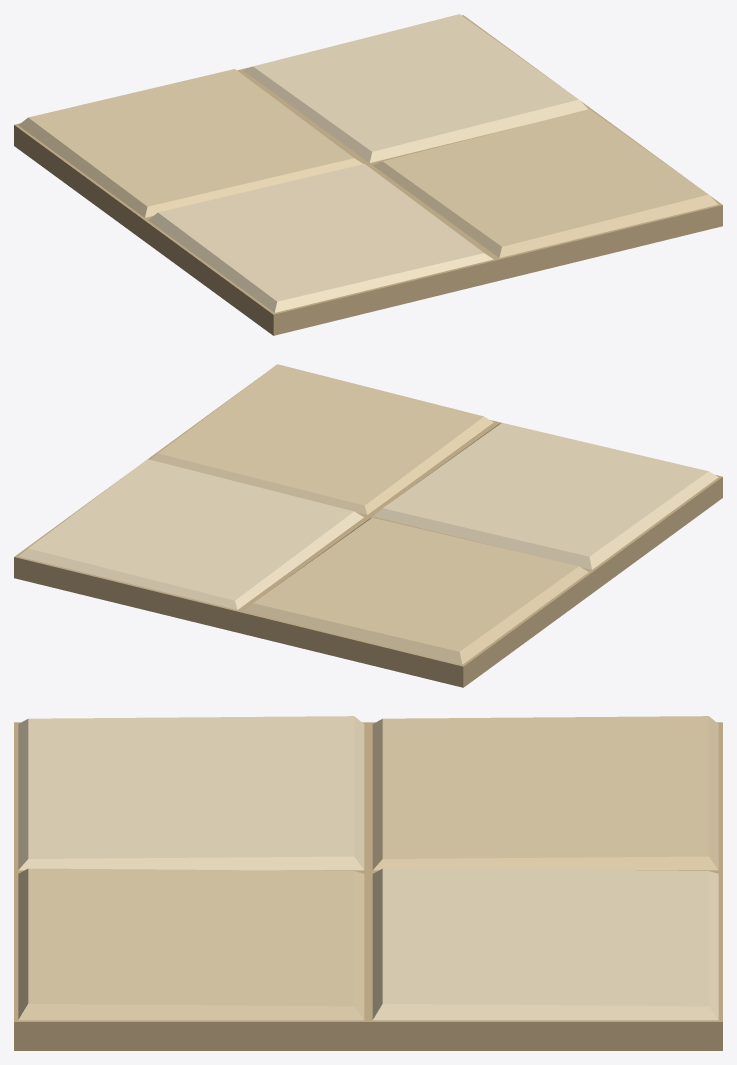
Rendered from paving_tile_c.glb.
3 renders of one model, top to bottom at view 1: azimuth 30°, elevation 25°; view 2: azimuth 150°, elevation 25°; view 3: azimuth 270°, elevation 25°, orthographic. The views are drawn at different scales.
Visible parts, largest first — view 1: paving_tile_c; view 2: paving_tile_c; view 3: paving_tile_c.
Part boxes in pixels (bbox=[...]): paving_tile_c: bbox=[14, 14, 722, 335]; paving_tile_c: bbox=[14, 364, 722, 687]; paving_tile_c: bbox=[14, 716, 722, 1050].
Bounding box in the file's own units: 1 × 0.064 × 1.
